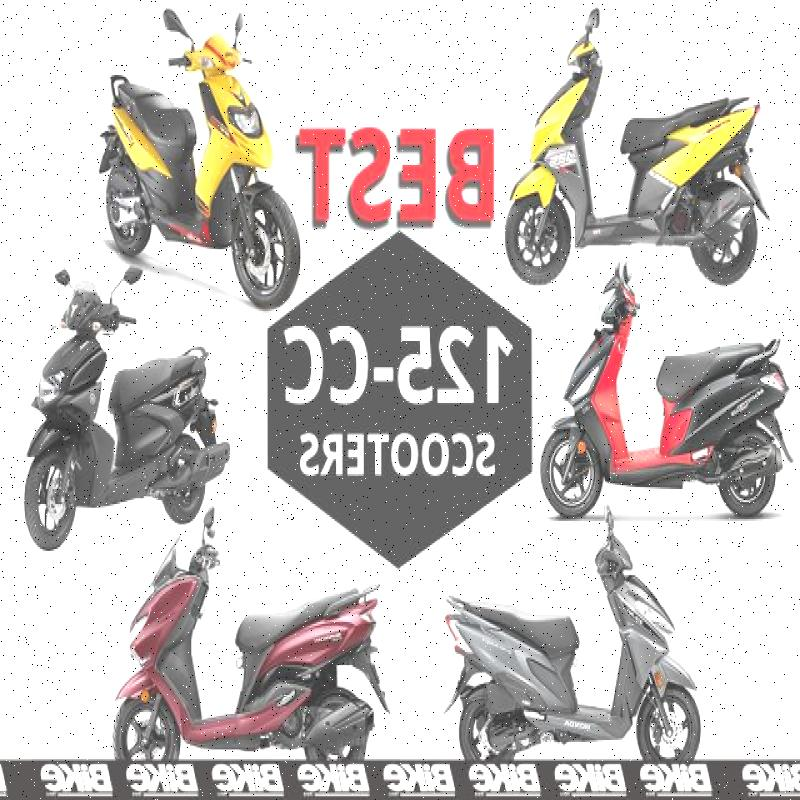bike: (485, 3, 786, 287), (417, 502, 708, 758), (82, 9, 319, 305), (511, 282, 800, 514), (22, 254, 213, 572)
